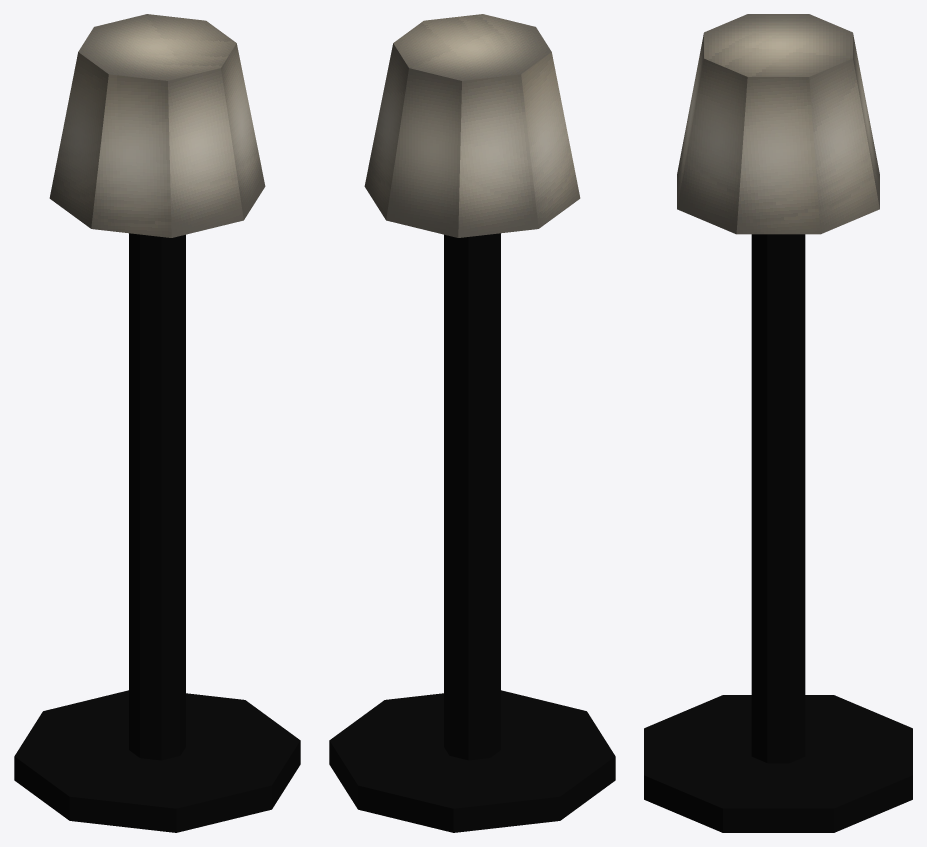
The model's file is floor_lamp.gltf.
3 views of the same model, side by side, from view 1: azimuth 30°, elevation 25°; view 2: azimuth 150°, elevation 25°; view 3: azimuth 270°, elevation 25° (orthographic).
Parts seen in each view (by area): view 1: cylinder; view 2: cylinder; view 3: cylinder.
Boxes of the visible parts, bbox=[...] form: cylinder: bbox=[14, 14, 300, 832]; cylinder: bbox=[329, 14, 615, 832]; cylinder: bbox=[644, 14, 912, 832].
Size of the model in its own units: 0.625 by 1.88 by 0.625.
Materials: 1 (1 with a texture image).
